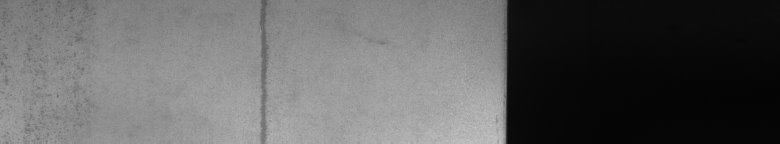hd: (256, 4, 273, 136)
